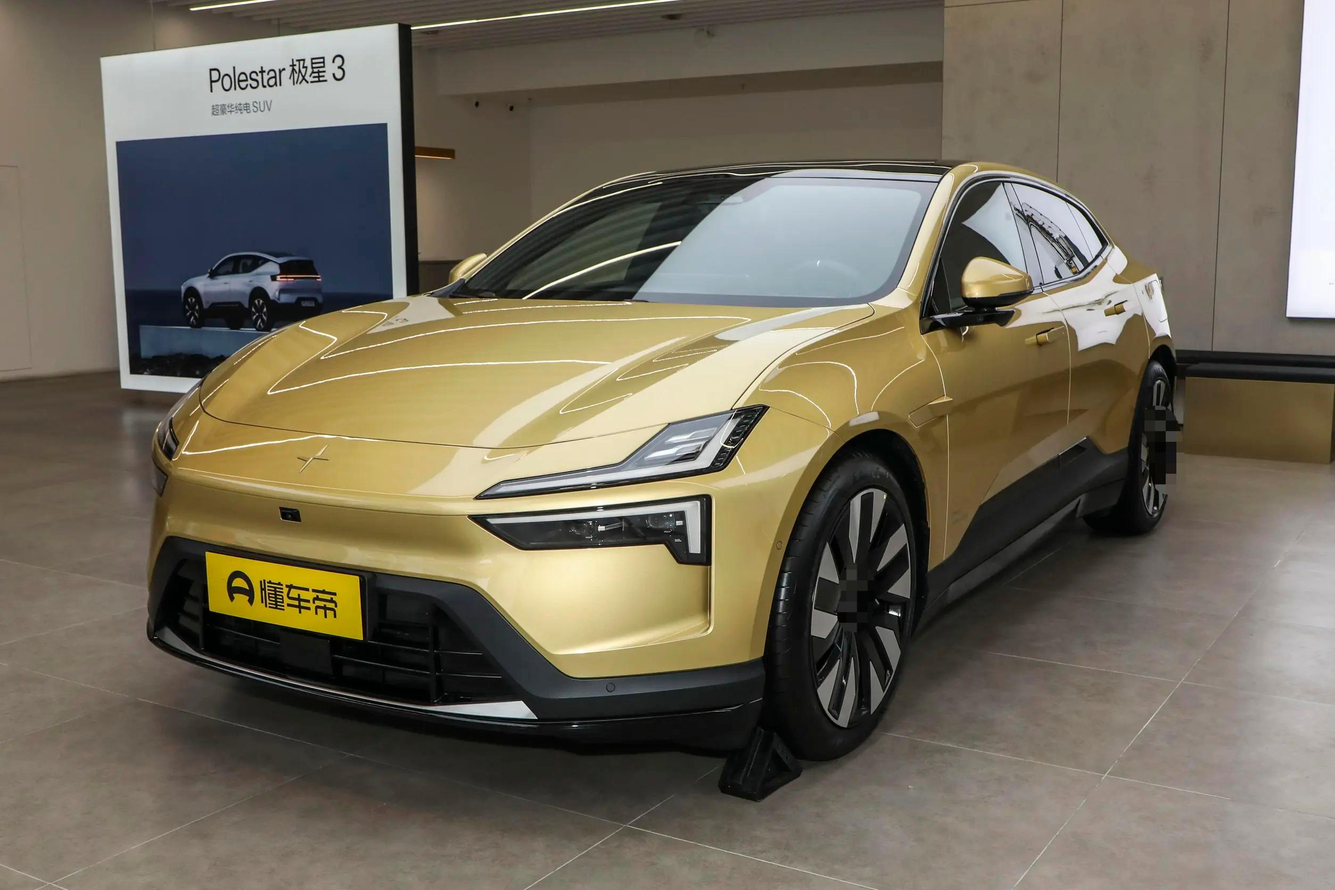Polestar: (297, 445, 329, 472)
